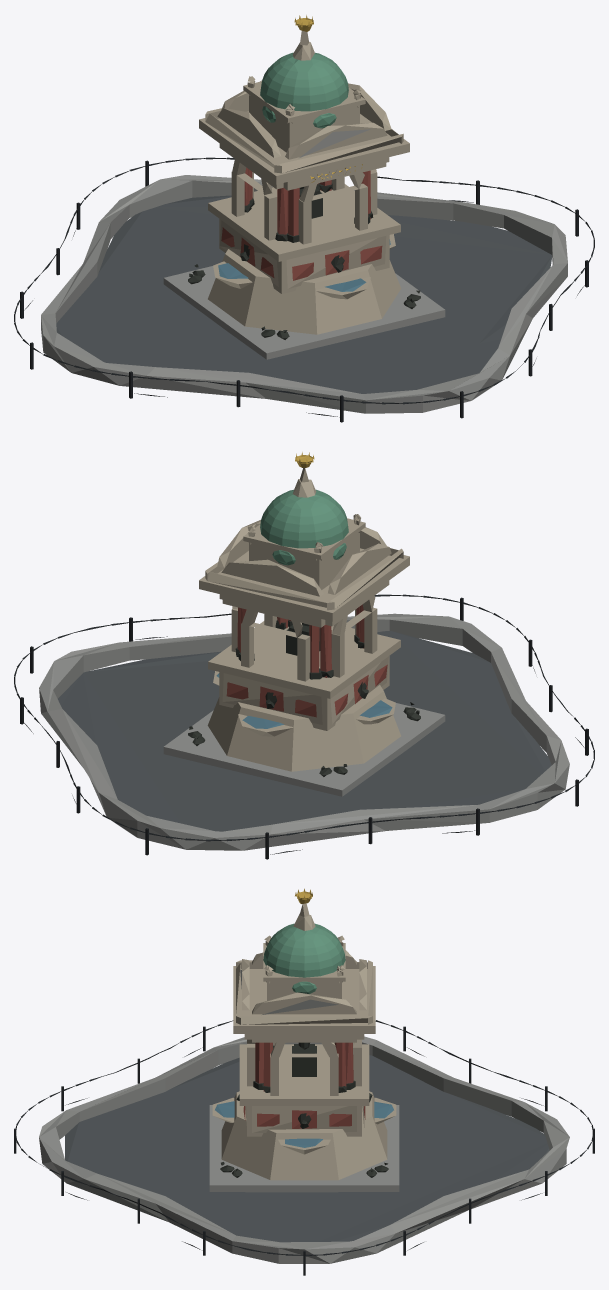
The model's file is sarphatimonument.lod1.glb.
3 views of the same model, one above another, from view 1: azimuth 30°, elevation 25°; view 2: azimuth 150°, elevation 25°; view 3: azimuth 270°, elevation 25° (orthographic). The views are drawn at different scales.
Parts seen in each view (by area): view 1: sarphatimonument; view 2: sarphatimonument; view 3: sarphatimonument.
Part boxes in pixels (x1,y1,x2,y2): sarphatimonument: [14, 15, 594, 422]; sarphatimonument: [14, 452, 594, 859]; sarphatimonument: [14, 888, 594, 1275].
Bounding box in the file's own units: 23.3 × 11.56 × 23.3.
